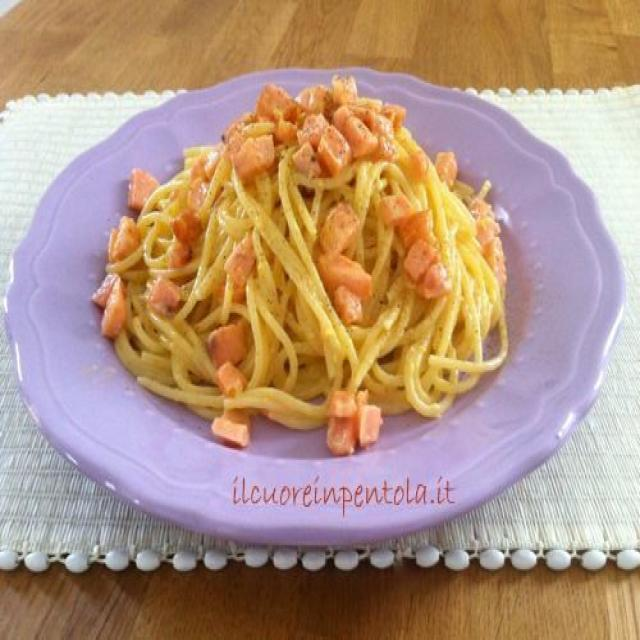Pasta with carbonara sauce: (99, 57, 542, 467)
